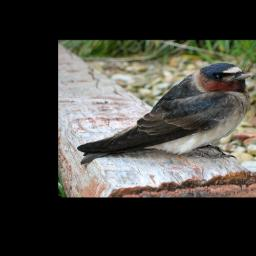Swallow: (74, 60, 256, 167)
